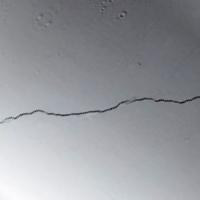crack: (0, 73, 199, 131)
